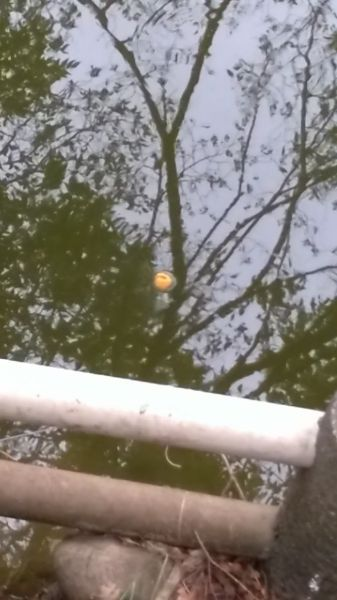eggs: (151, 269, 174, 293)
